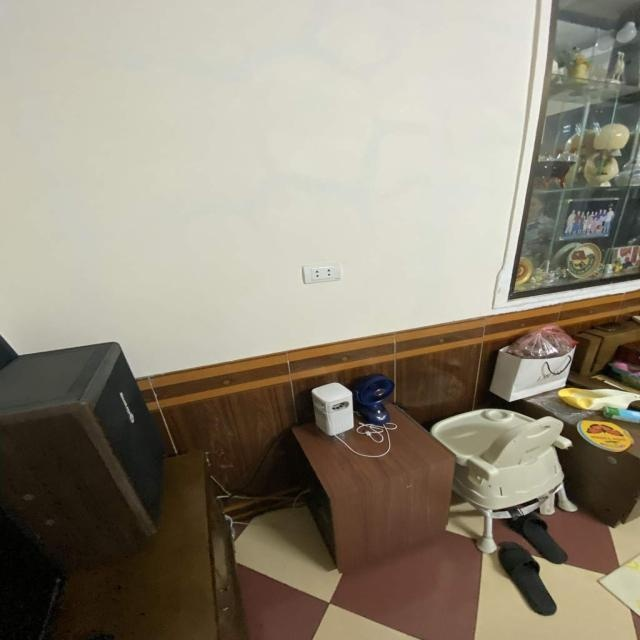outlet: (302, 263, 341, 284)
